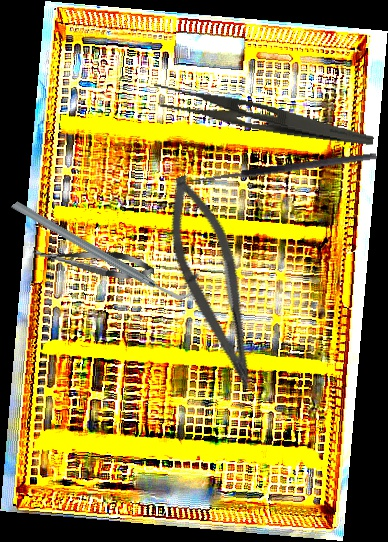Chopper: (10, 150, 194, 351)
Dressing Forceps: (149, 79, 378, 148)
Hook Surgical: (184, 150, 379, 196)
Micro Scissor: (148, 168, 281, 396), (30, 239, 157, 284)
